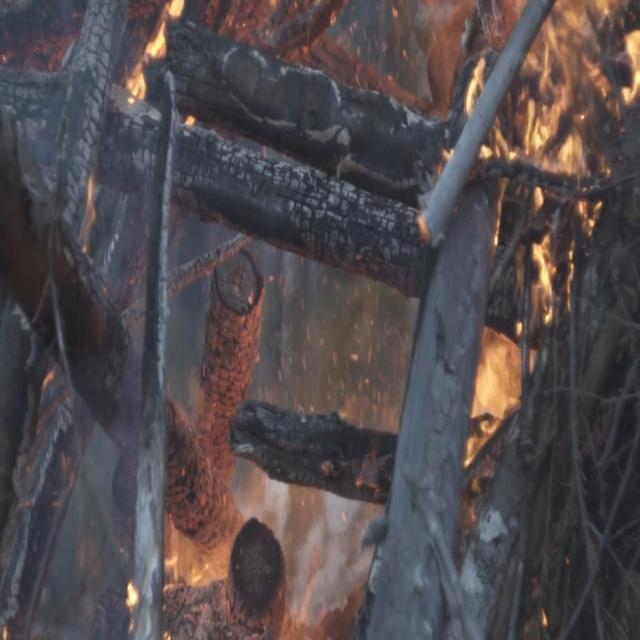Fire: (426, 1, 640, 471), (124, 0, 194, 116)
